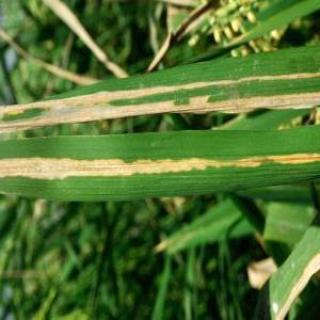Hawar-Daun: (0, 89, 167, 131), (1, 156, 221, 185), (199, 66, 320, 113), (215, 141, 320, 177), (270, 251, 320, 320), (153, 72, 210, 118)
